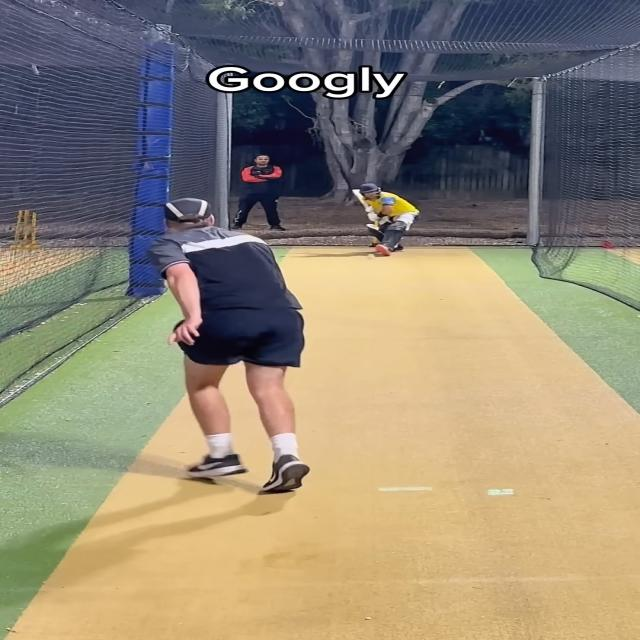Cricket ball: (366, 253, 376, 260)
